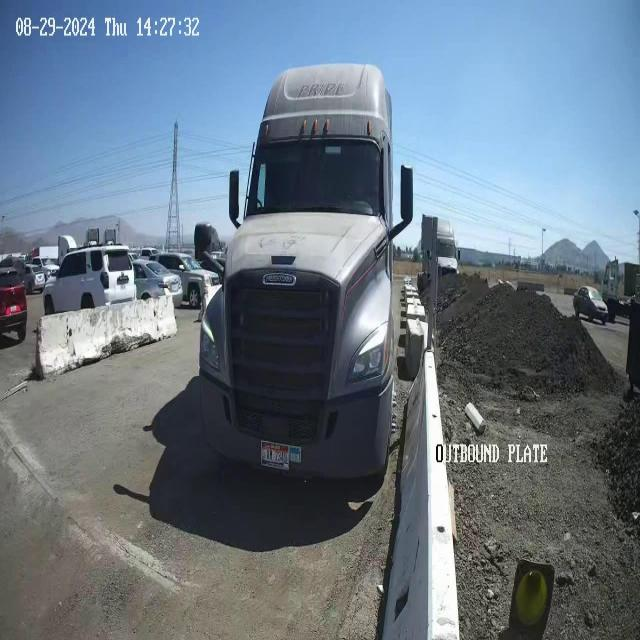TRUCK_OUT: (194, 62, 413, 486)
